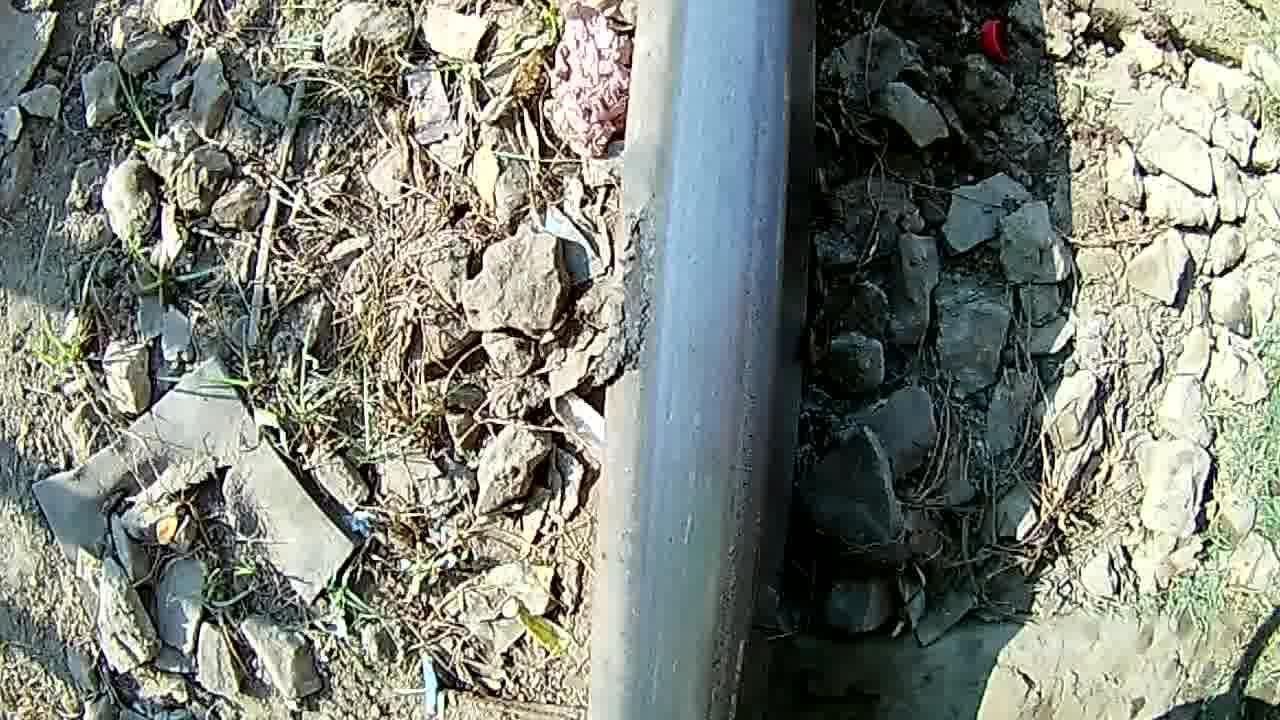crack: (596, 0, 803, 720)
